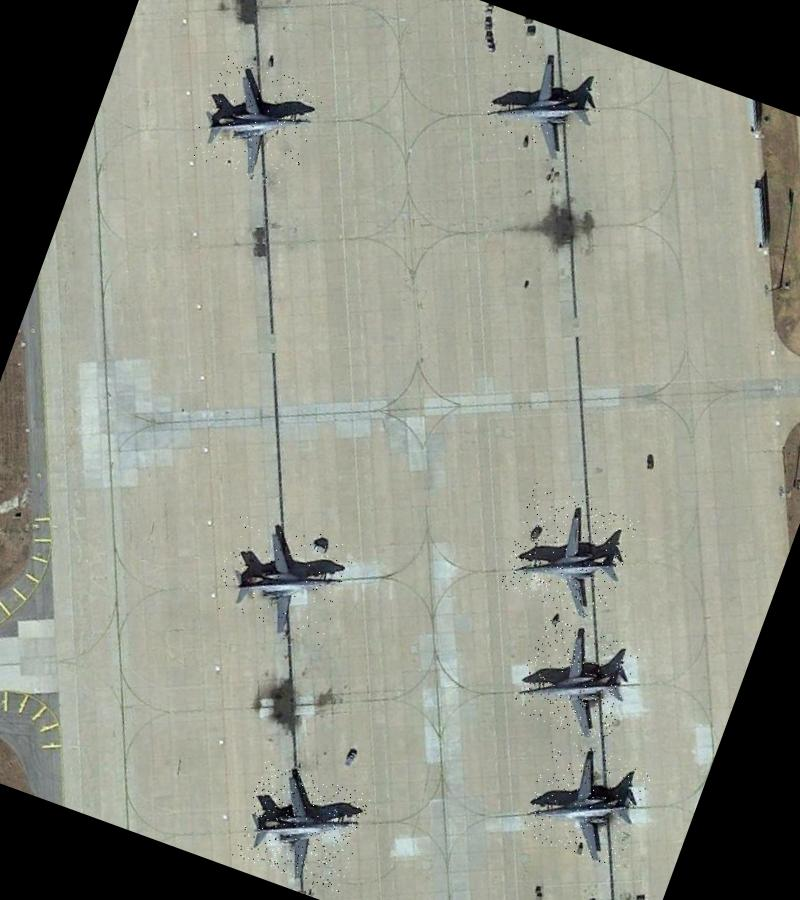A10: (206, 506, 357, 648), (497, 482, 640, 624), (473, 34, 615, 174), (184, 52, 326, 191), (231, 758, 374, 894), (516, 734, 654, 871), (508, 614, 642, 747)
